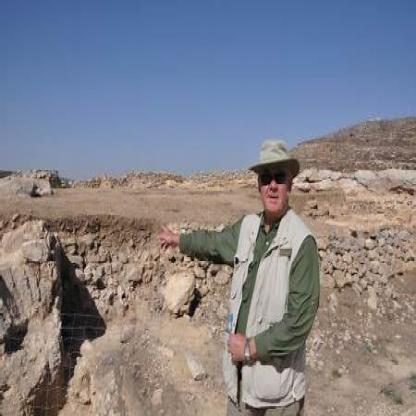person: (155, 128, 320, 413)
